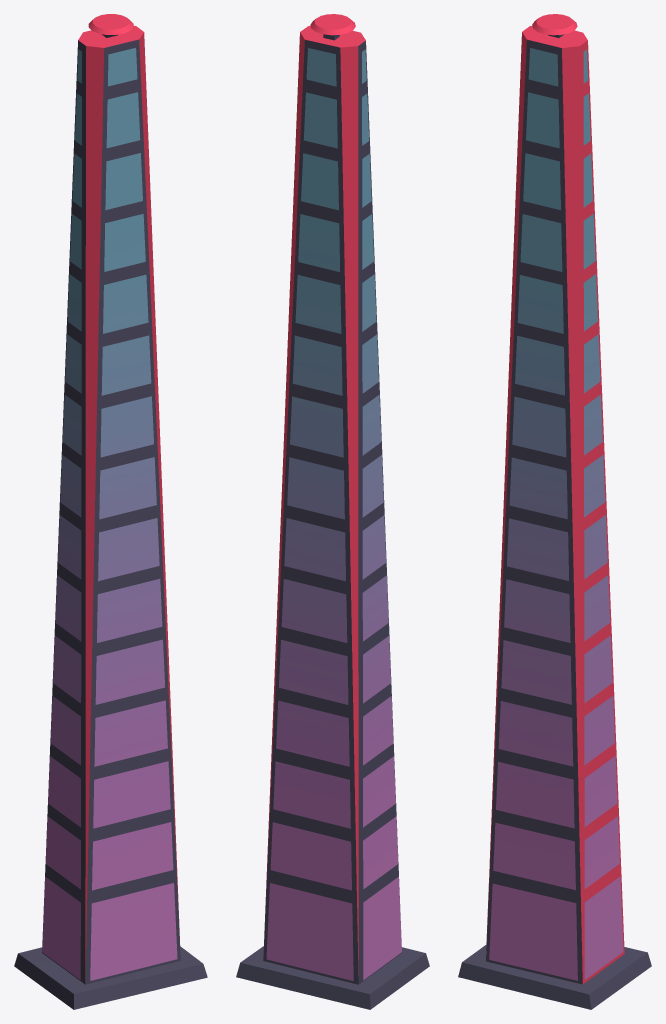
The model's file is CbpBuild J.fbx.
3 views of the same model, side by side, from view 1: azimuth 30°, elevation 25°; view 2: azimuth 150°, elevation 25°; view 3: azimuth 330°, elevation 25° (orthographic).
Parts seen in each view (by area): view 1: CbpBuild J; view 2: CbpBuild J; view 3: CbpBuild J.
Boxes of the visible parts, x1,y1,x2,y2 form: CbpBuild J: (14,14,207,1009); CbpBuild J: (236,14,429,1009); CbpBuild J: (458,14,651,1009).
Bounding box in the file's own units: 18.51 × 125 × 14.32.
